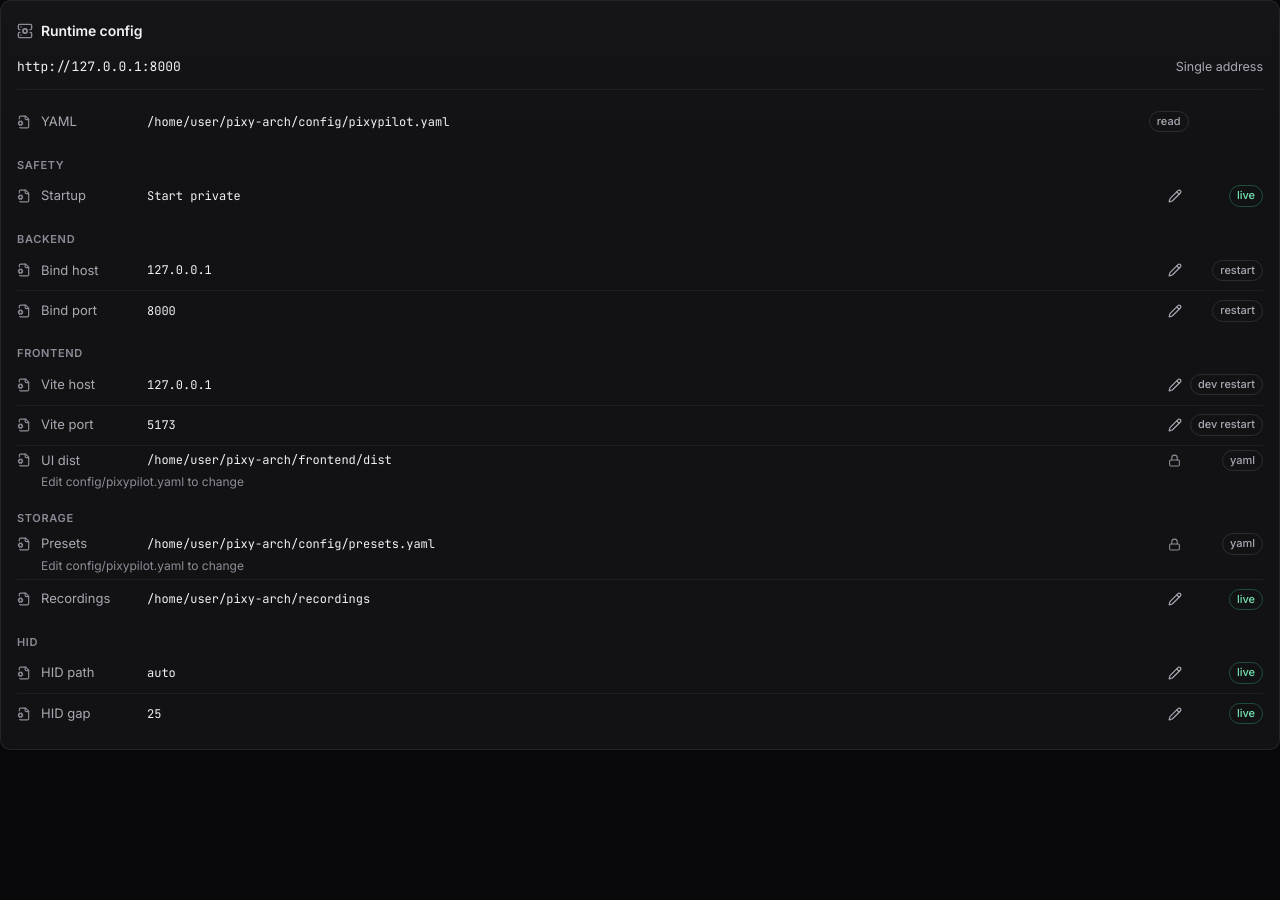
RuntimeSettingsPanel › validates the Vite host like the bind host and warns when it is exposed
Click the button named "Edit Vite host". click: (1174, 385)
box: [1160,371,1188,399]
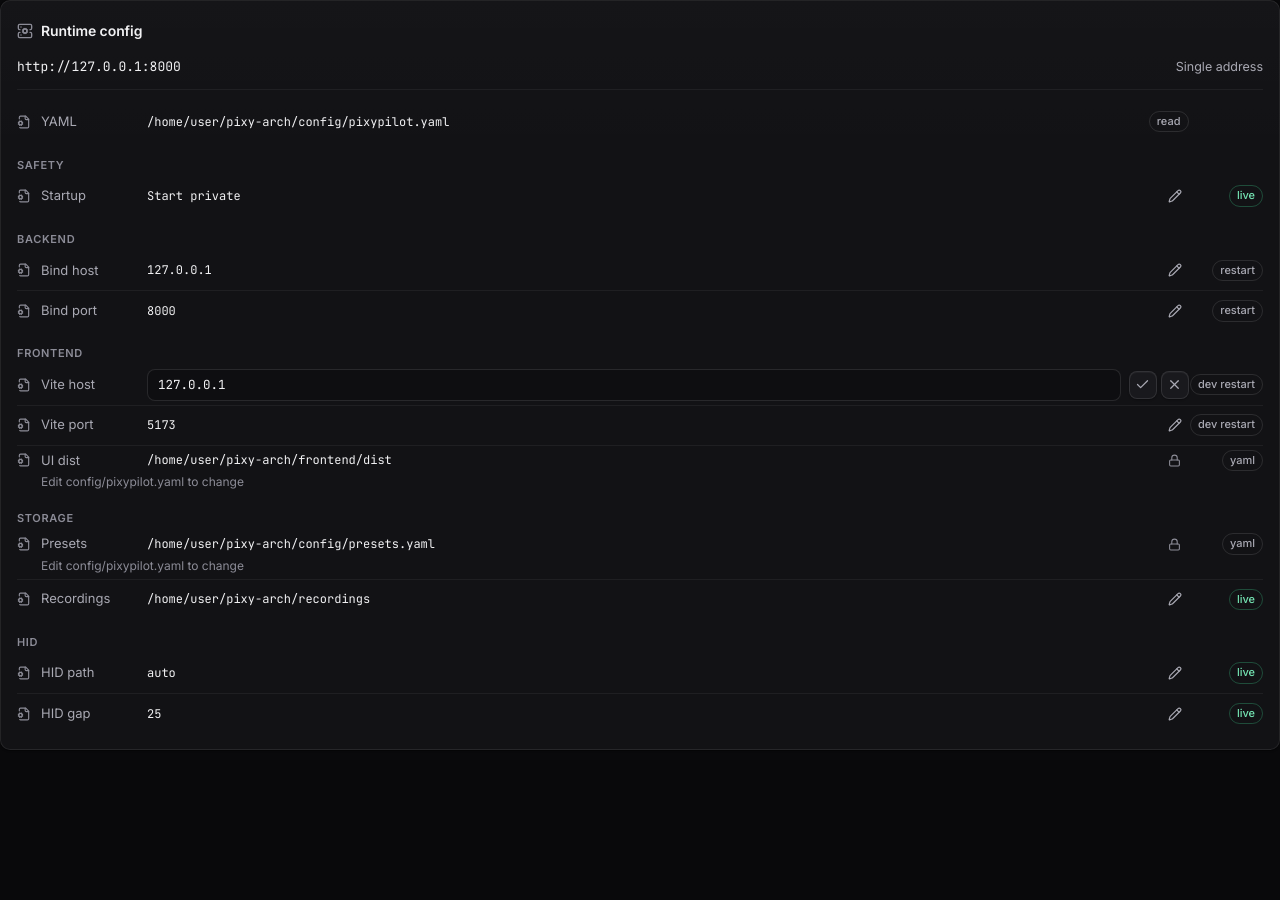
Replace the text in the field named "Vite host" with "dev-box". click: (634, 385)
box: [147,369,1120,401]
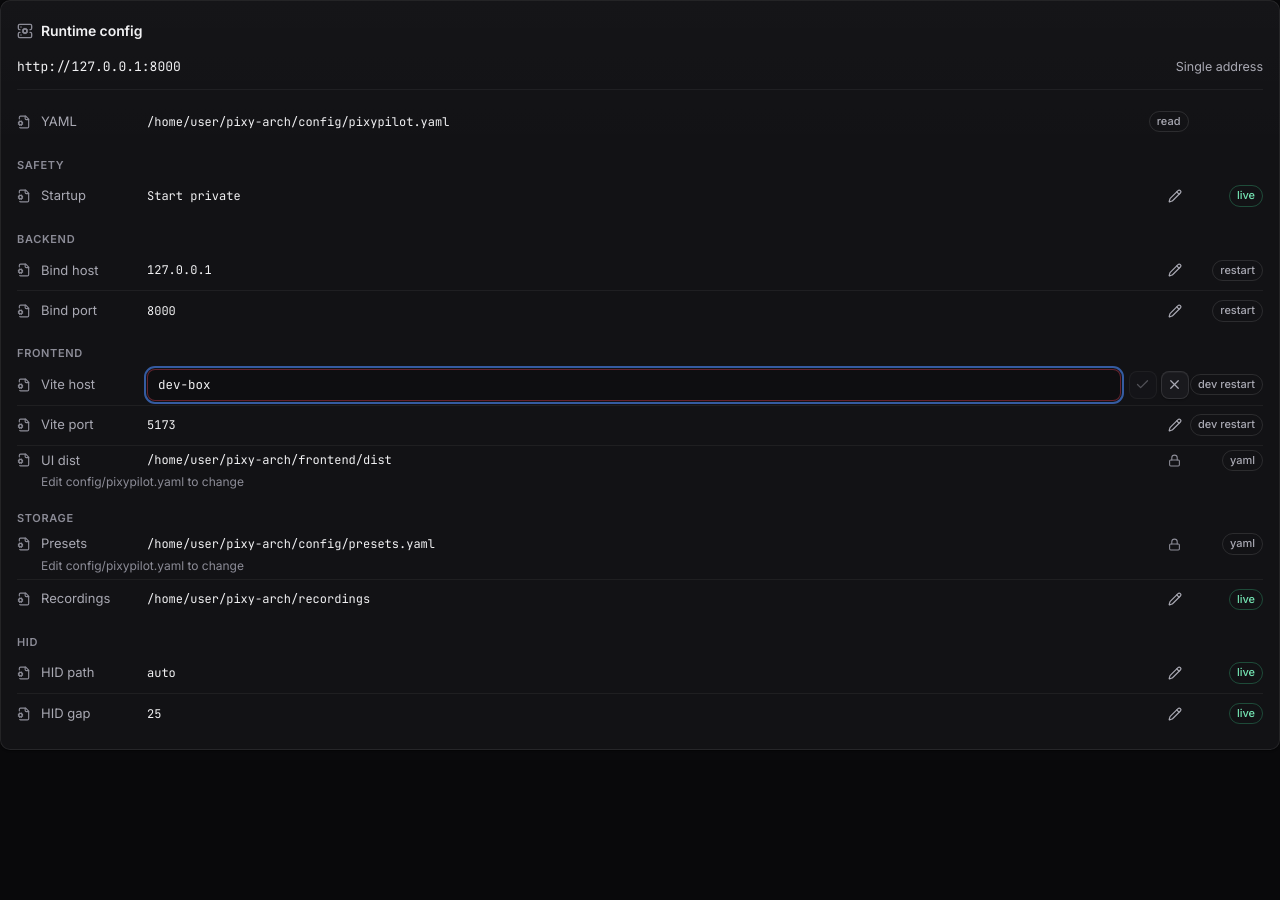
Expected: the button named "Save Vite host" is disabled, [1128,371,1156,399]
Replace the text in the field named "Vite host" with "0.0.0.0". click: (634, 385)
box: [147,369,1120,401]
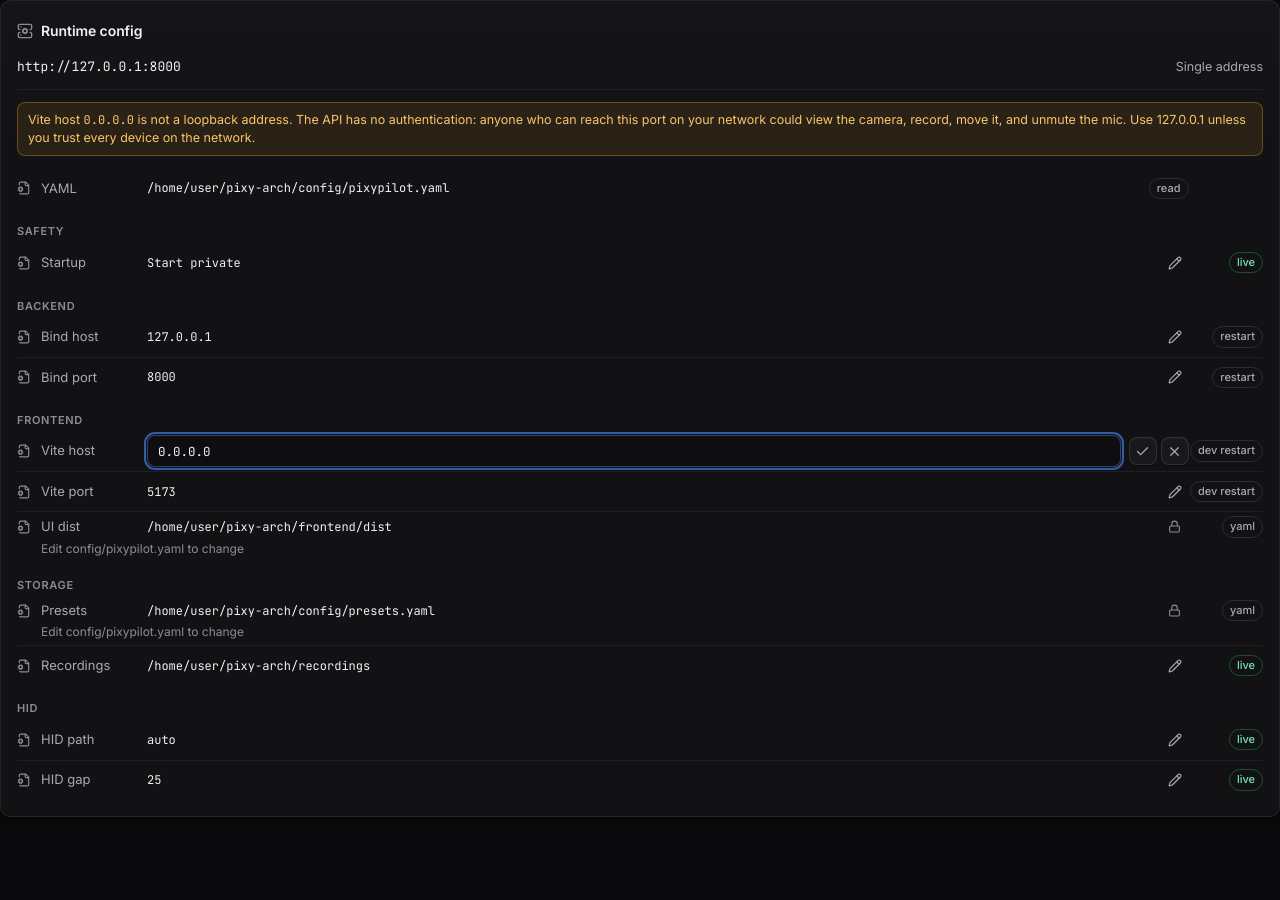
Expected: the button named "Save Vite host" is enabled, [1128,437,1156,465]
Expected: the message shows "Vite host 0.0.0.0 is not a loopback address", [17,102,1263,156]
